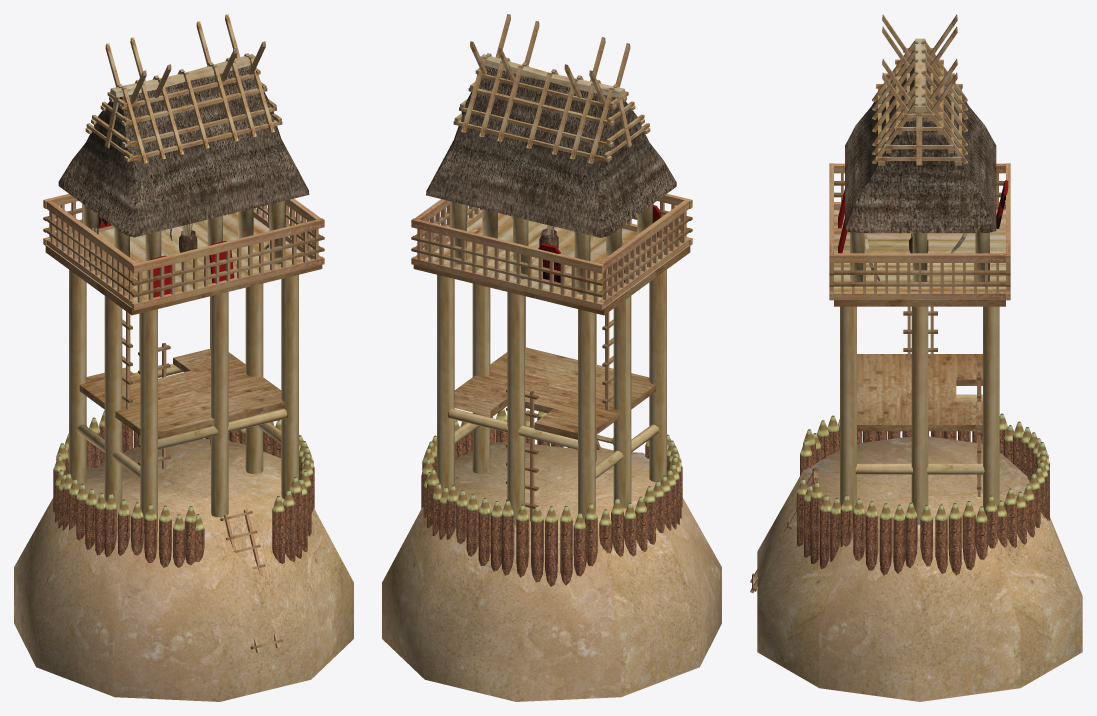
File: yayoi_tower_2.dae
3 renders of one model, left to right at view 1: azimuth 30°, elevation 25°; view 2: azimuth 150°, elevation 25°; view 3: azimuth 270°, elevation 25°, orthographic.
Parts seen in each view (by area): view 1: tower2; view 2: tower2; view 3: tower2.
Part boxes in pixels (x1,y1,x2,y2): tower2: (14,14,353,701); tower2: (382,14,721,701); tower2: (750,14,1082,701).
Bounding box in the file's own units: 14.76 × 14.4 × 28.05.
